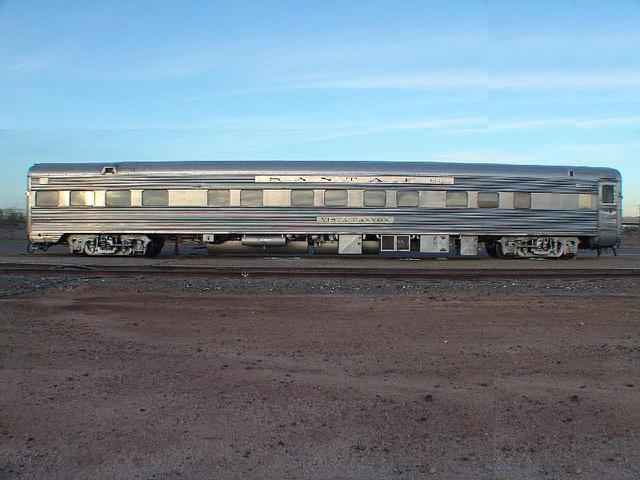Train: (26, 163, 625, 262)
